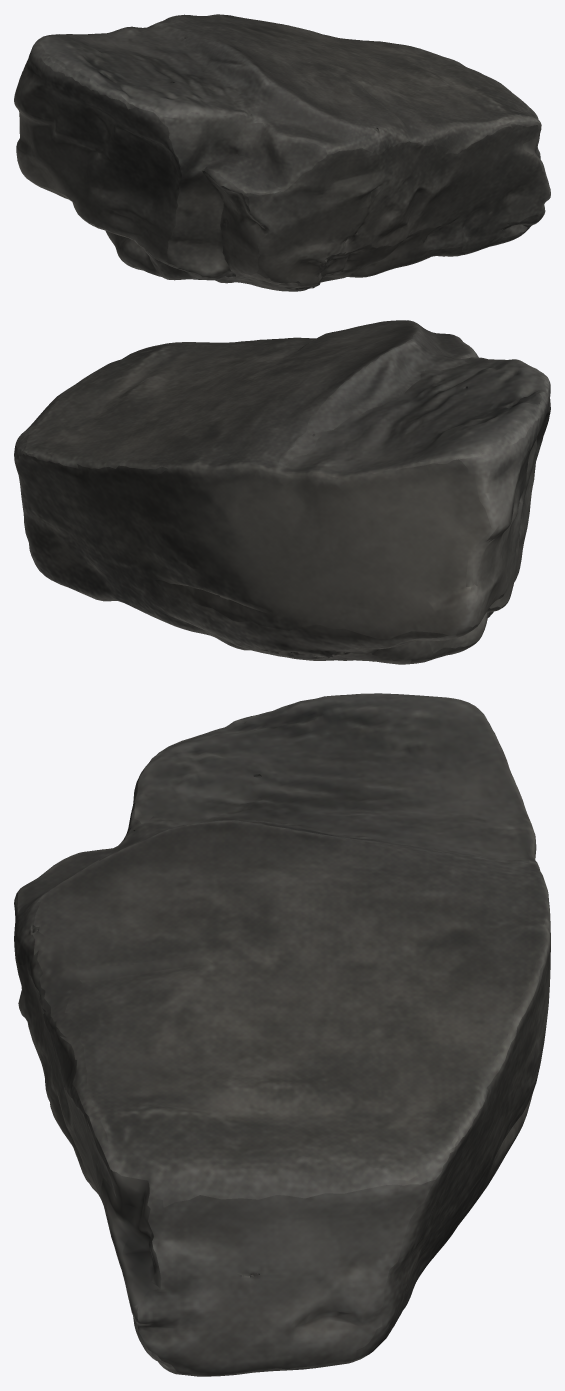
The picture shows the model from 3 angles, top to bottom: view 1: azimuth 30°, elevation 25°; view 2: azimuth 150°, elevation 25°; view 3: azimuth 270°, elevation 25°; orthographic projection. The views are drawn at different scales.
Parts seen in each view (by area): view 1: world; view 2: world; view 3: world.
Part boxes in pixels (<box>): world: <box>14,14,550,291</box>; world: <box>14,320,550,664</box>; world: <box>14,693,550,1376</box>.
Size of the model in its own units: 2.5 by 1.26 by 1.65.
Materials: 1 (1 with a texture image).
